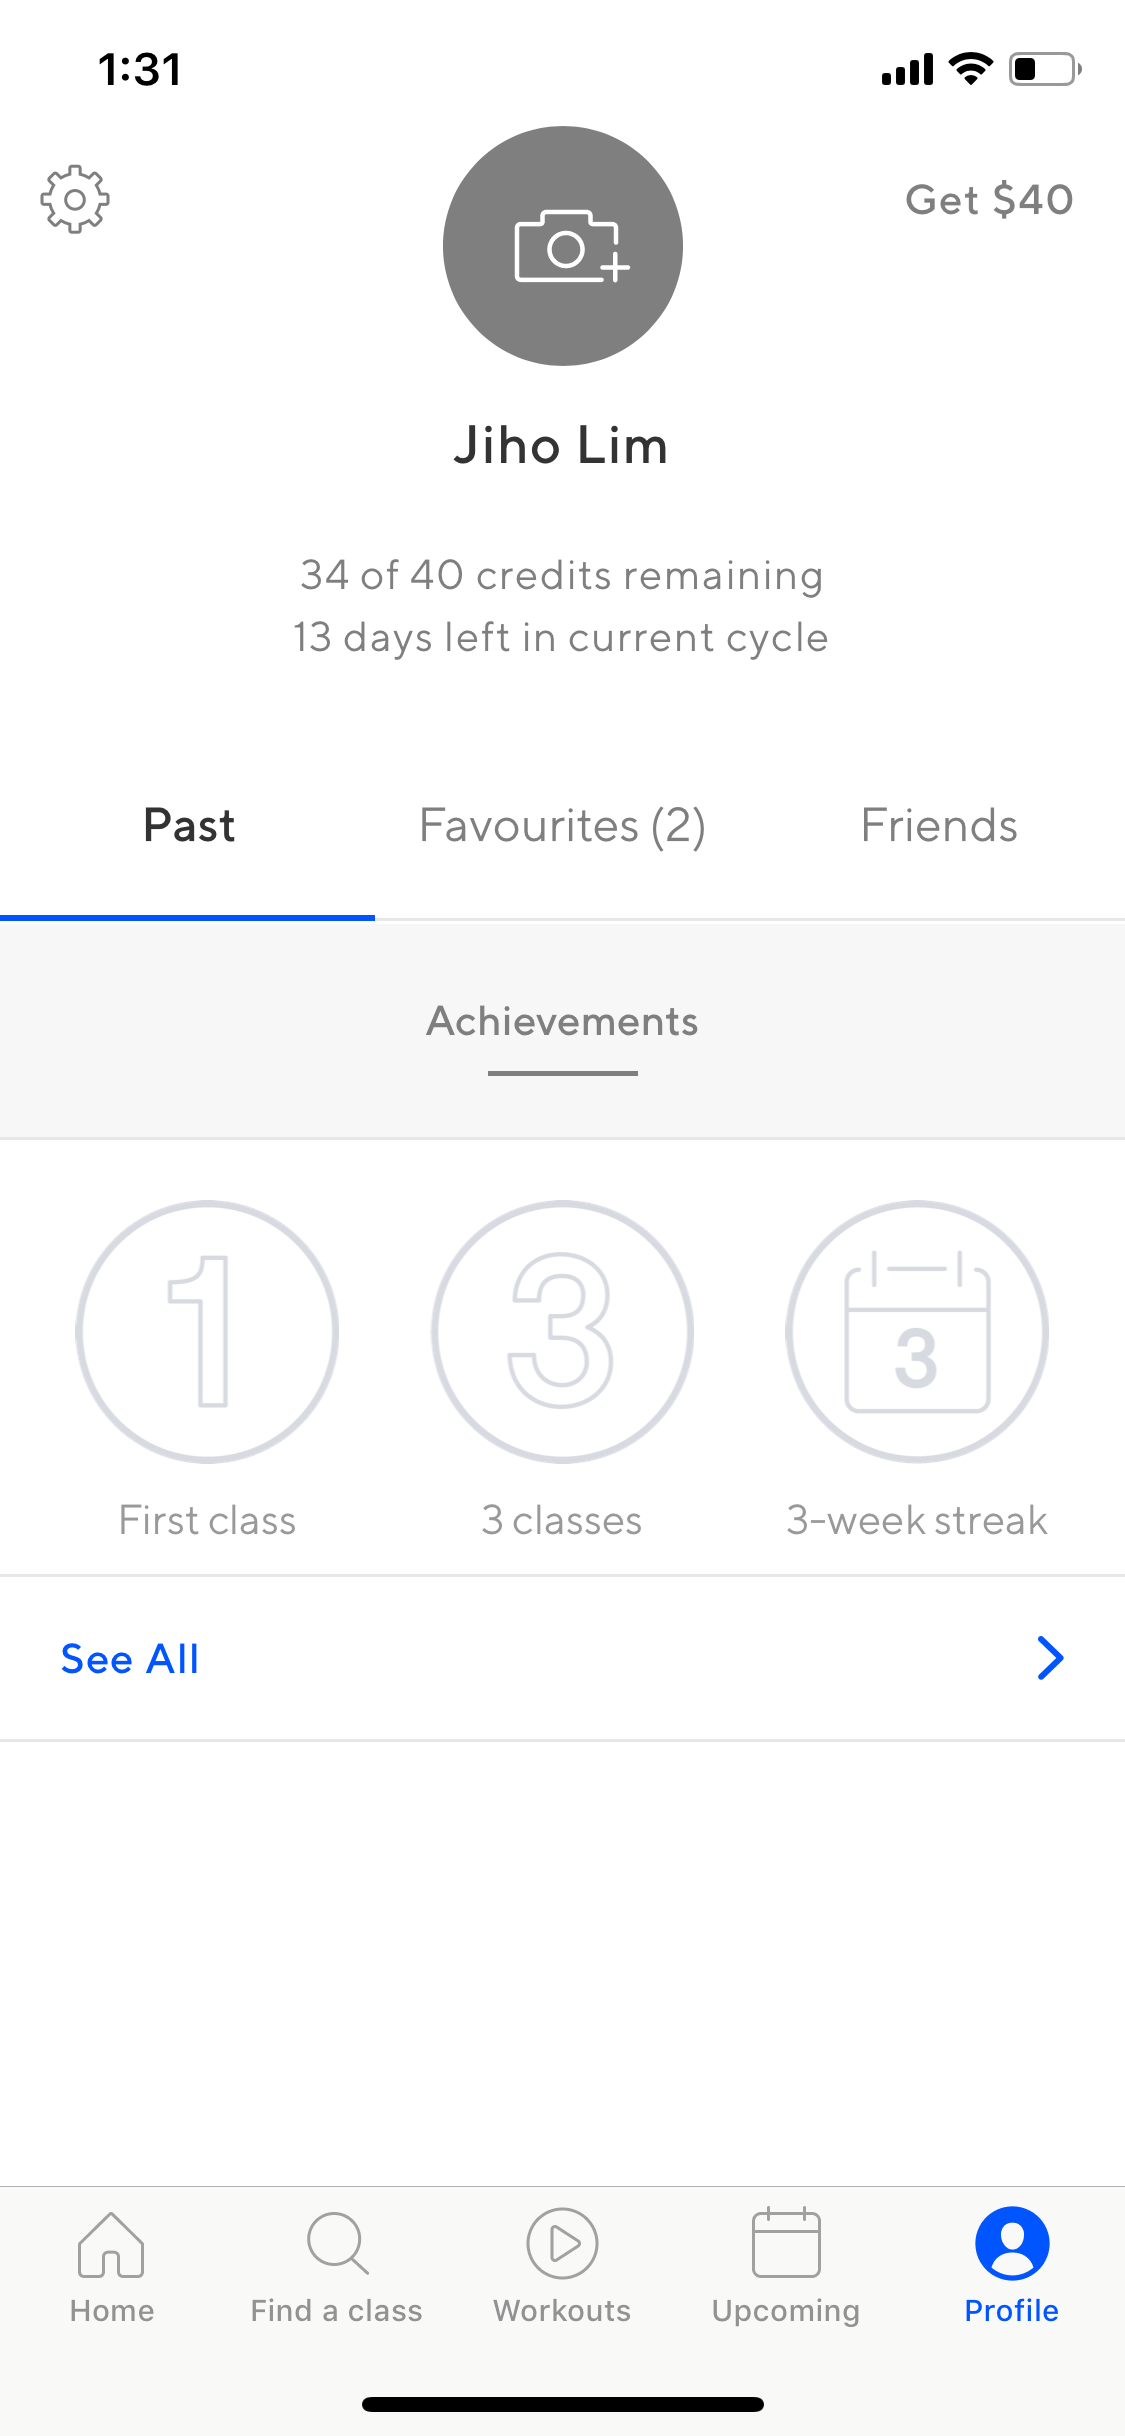Buttons: (6, 127, 152, 263)
